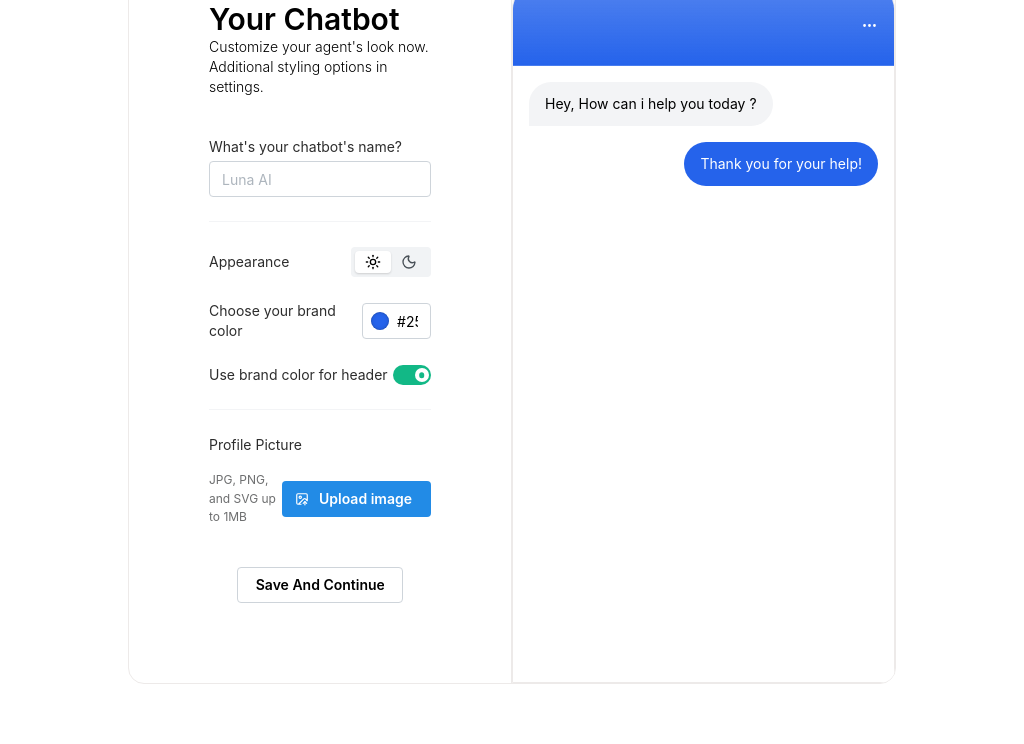
ChatbotBasicSetup › rendering › shows a validation error when submitted with no name
The width and height of the screenshot is (1024, 744).
(page scrolled)
Click the button "Save And Continue" at (320, 585), box x1=237 y1=567 x2=403 y2=603
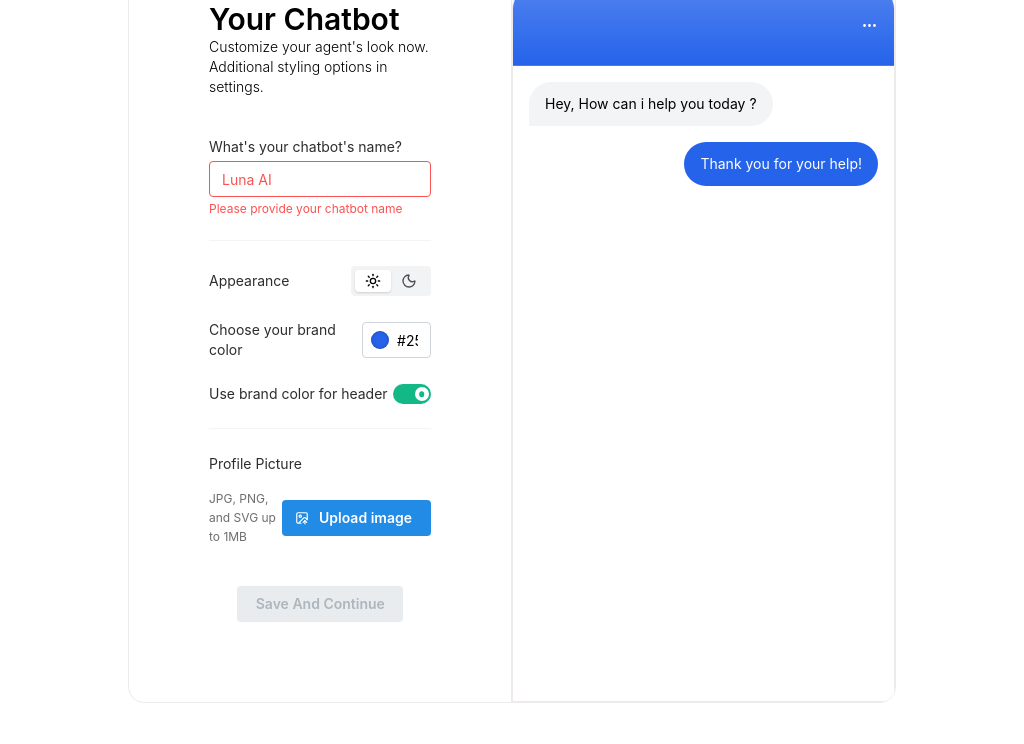
Expected: the text "Please provide your chatbot name" is shown, x1=209 y1=202 x2=431 y2=216
